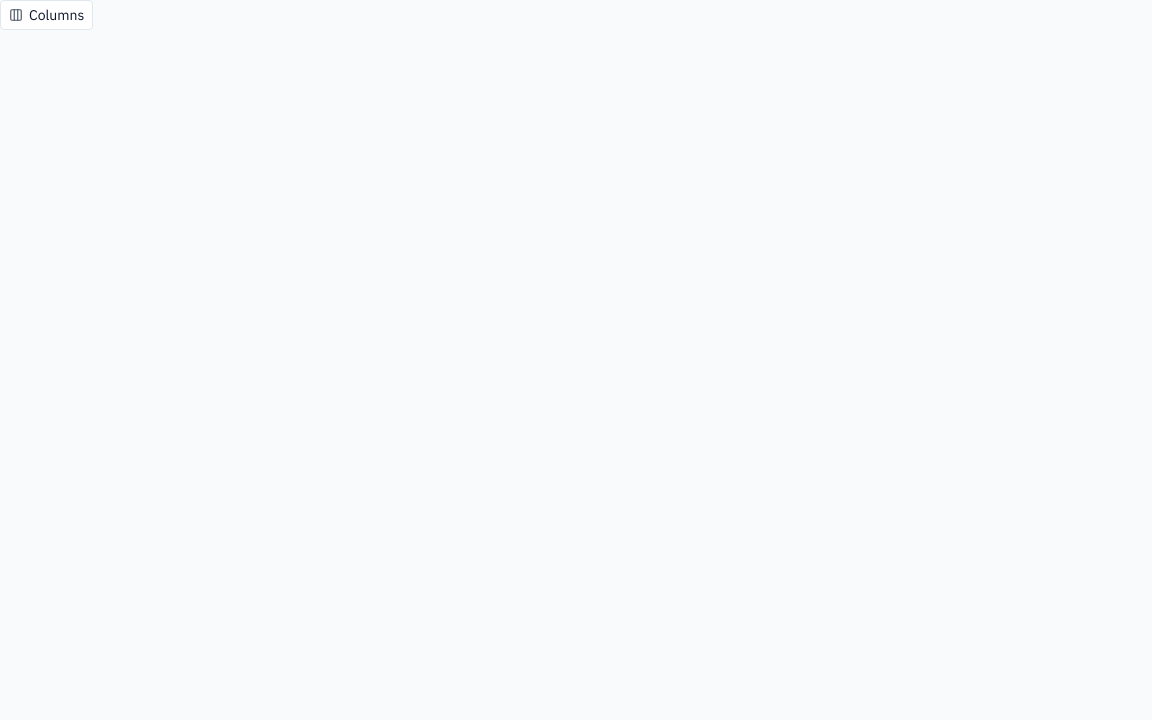
<ColumnPicker/> › renders one checkbox per optional column
This screenshot has width=1152, height=720.
Click the button with test id "supplier-list-column-picker".
click(47, 15)  # box [0,0,93,30]
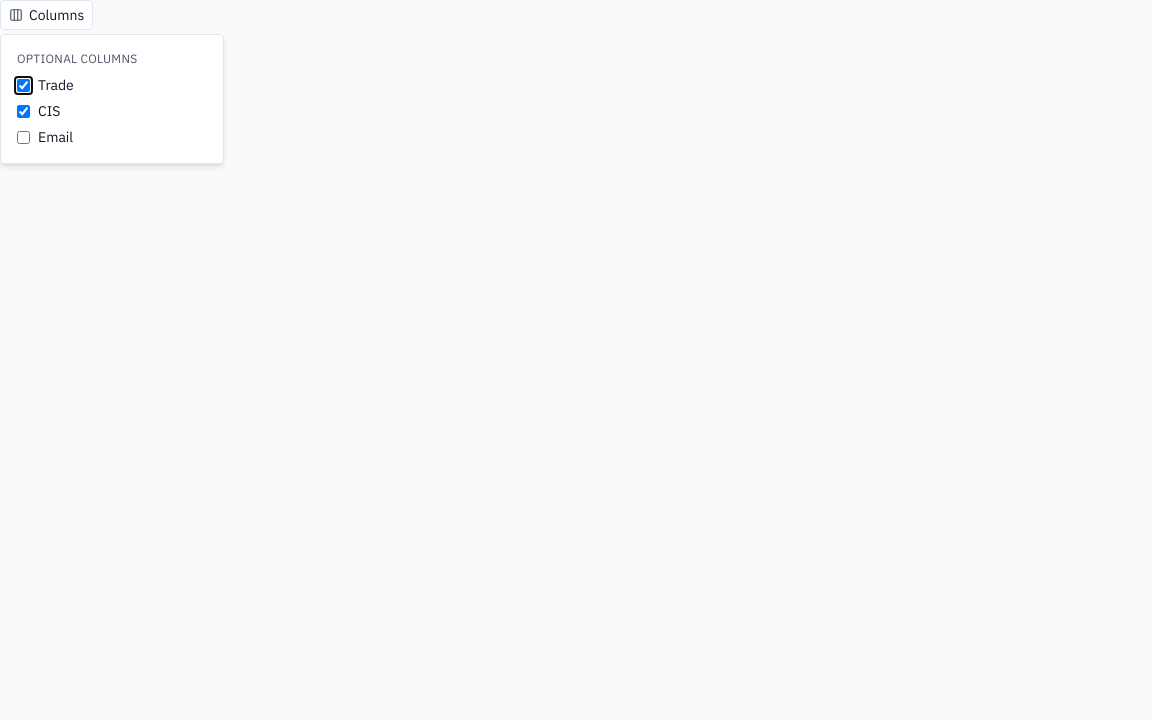
Check: the checkbox with test id "column-toggle-trade" is shown, box [17,78,30,92]
Check: the checkbox with test id "column-toggle-cis" is shown, box [17,104,30,118]
Check: the checkbox with test id "column-toggle-email" is shown, box [17,130,30,144]
